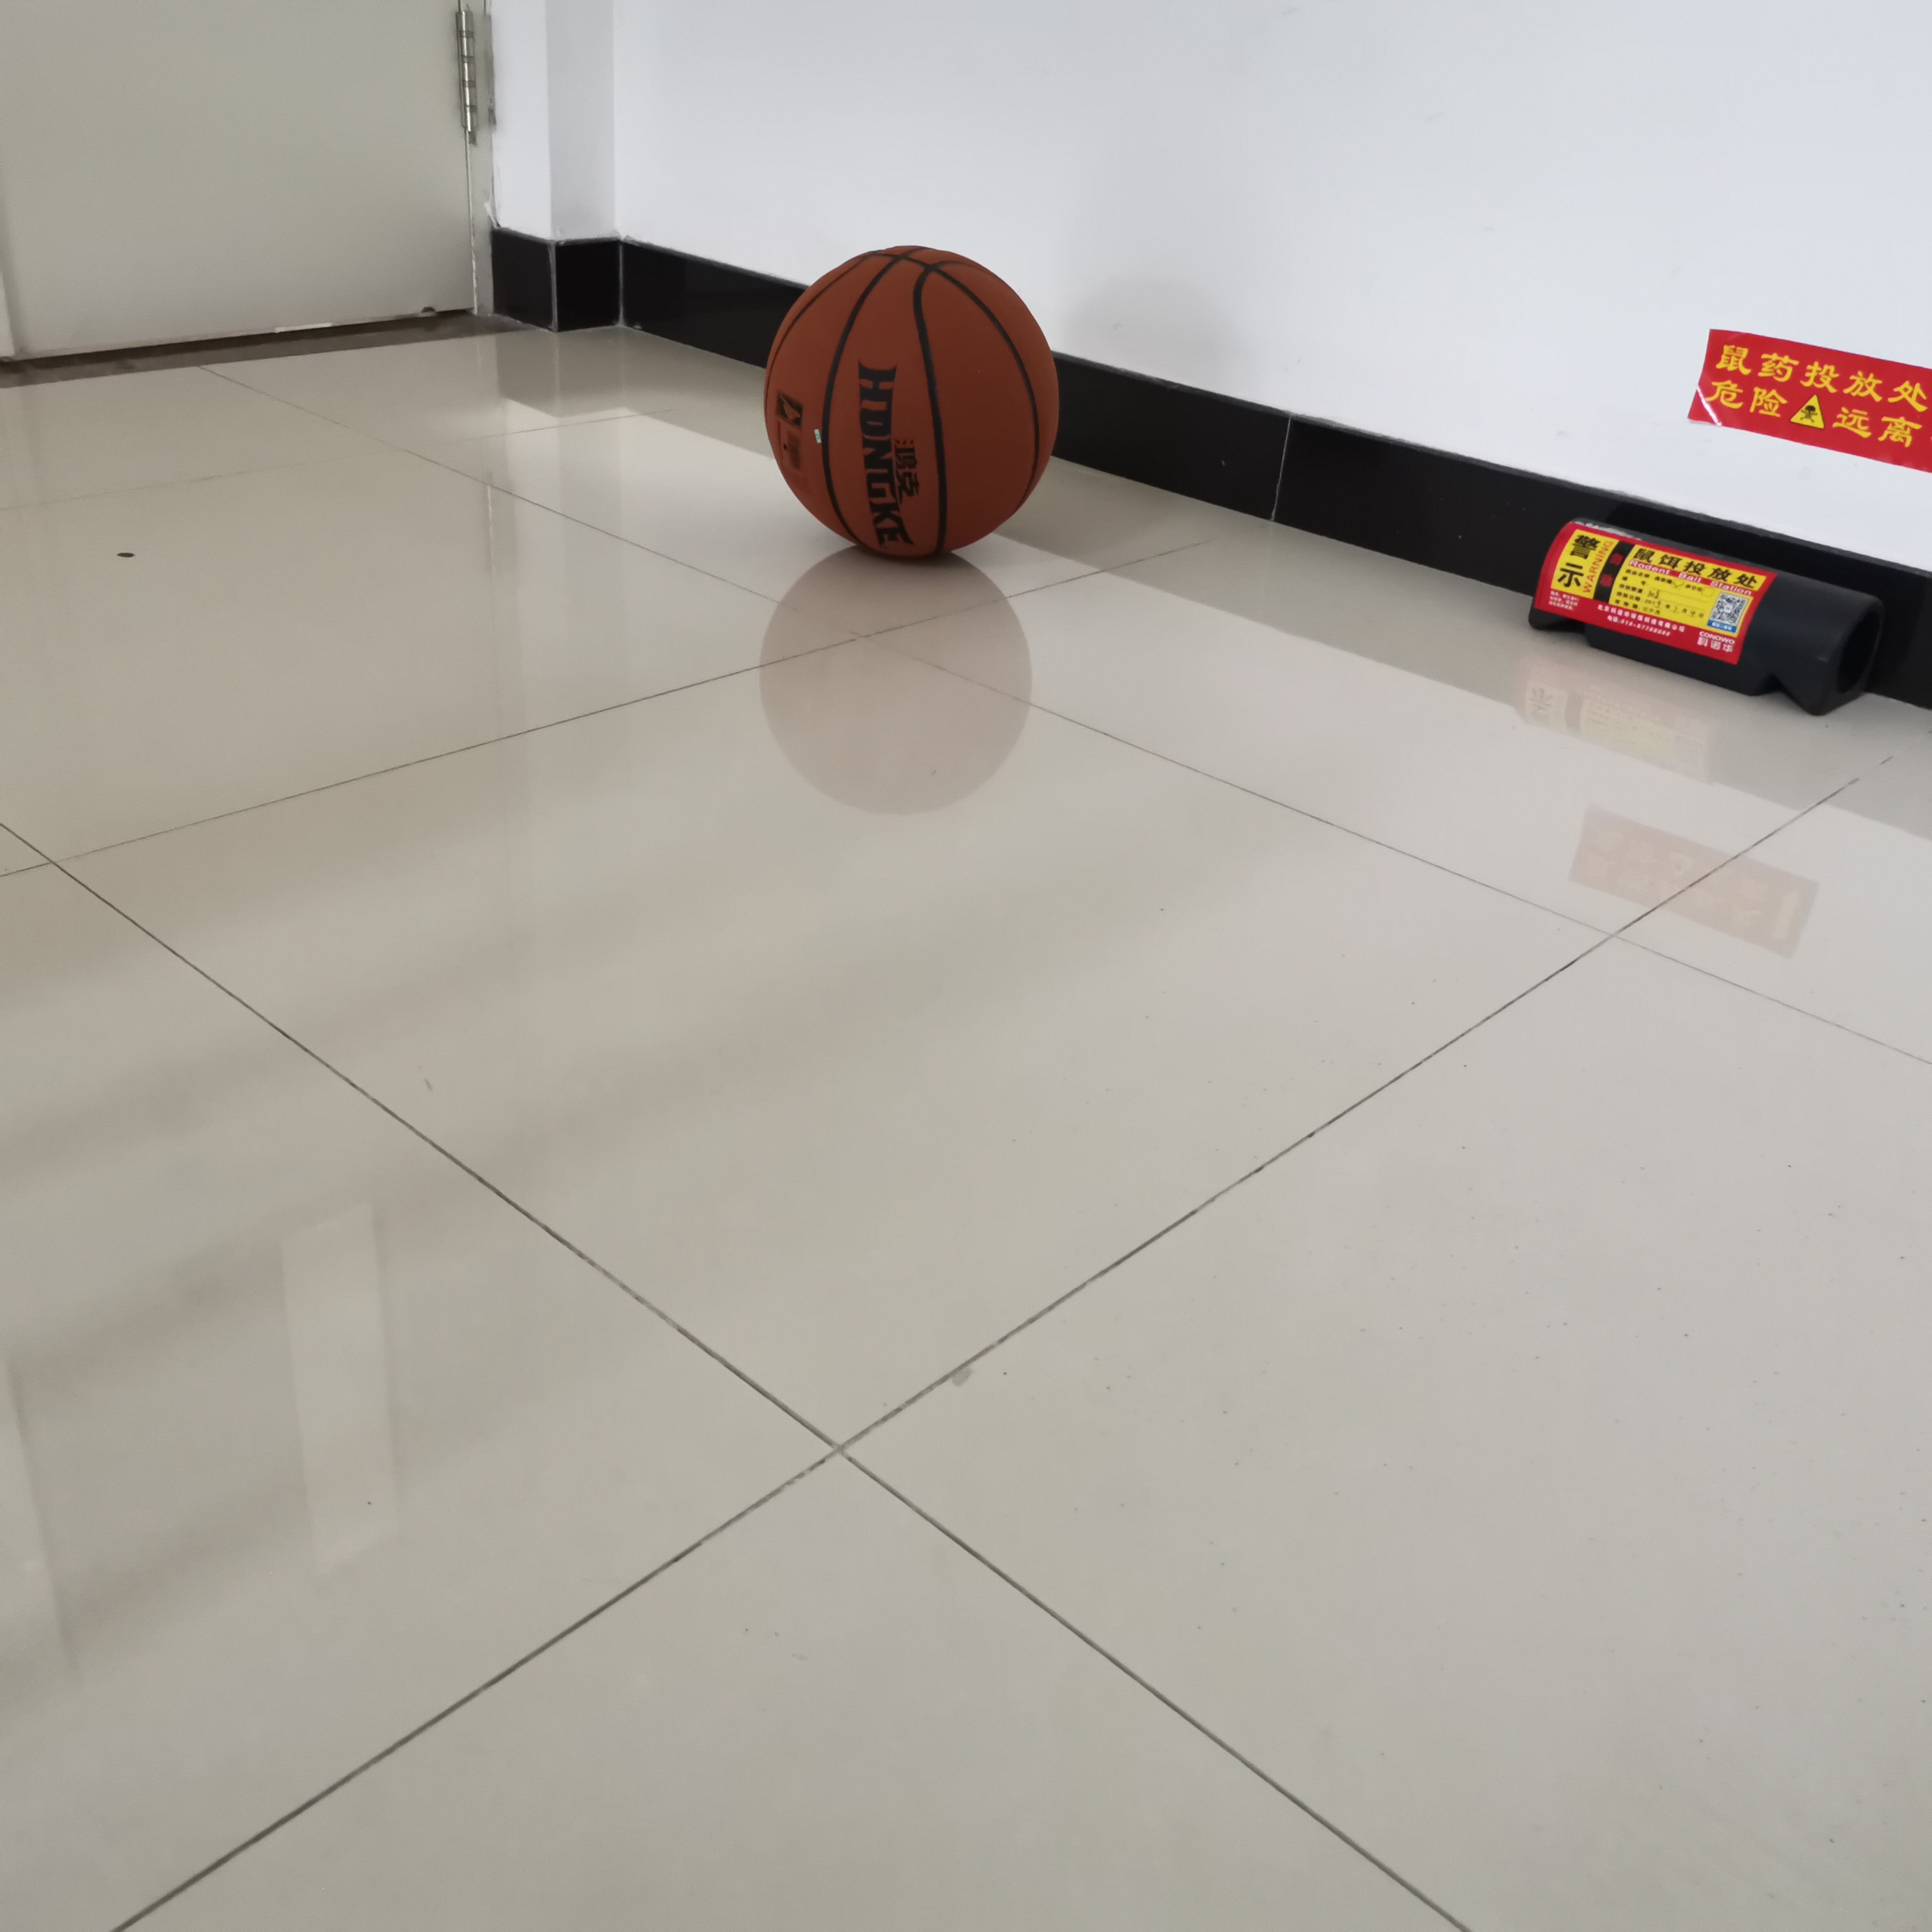basketball: (763, 244, 1060, 563)
